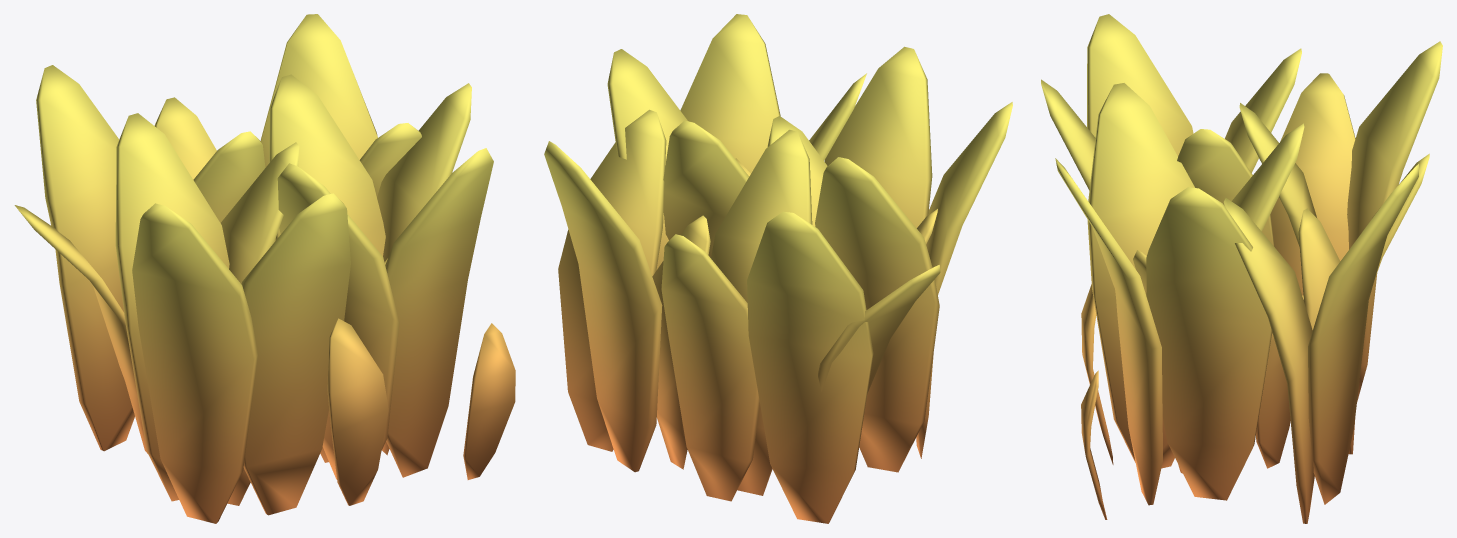
The model's file is Grass_D.fbx.
3 renders of one model, left to right at view 1: azimuth 30°, elevation 25°; view 2: azimuth 150°, elevation 25°; view 3: azimuth 270°, elevation 25°, orthographic.
Parts seen in each view (by area): view 1: Grass_D; view 2: Grass_D; view 3: Grass_D.
Part boxes in pixels (x1,y1,x2,y2): Grass_D: [14, 14, 515, 523]; Grass_D: [544, 14, 1012, 523]; Grass_D: [1041, 14, 1442, 523].
Size of the model in its own units: 174 by 147 by 153.
